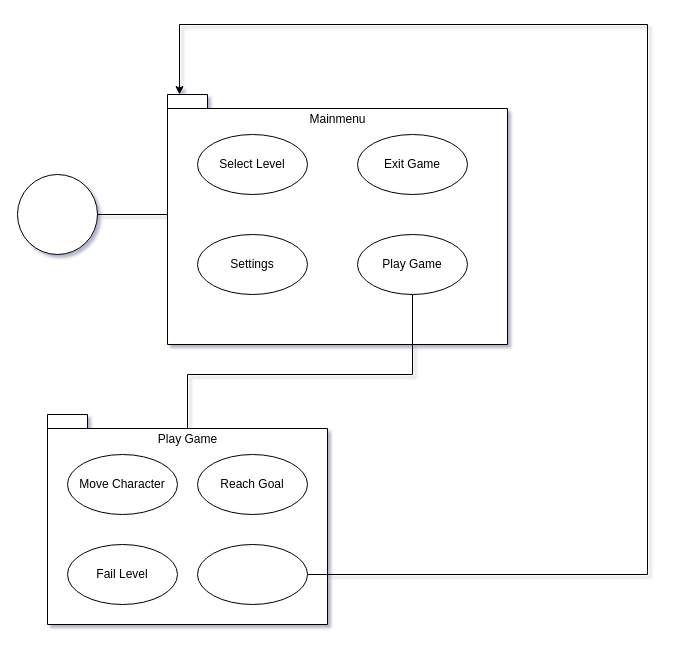
Image size: 679x648. Some labels were removed from this diagram. Each missing label, with the box of its shape:
Exit Level: (196, 544, 308, 604)
Player: (16, 174, 98, 254)
